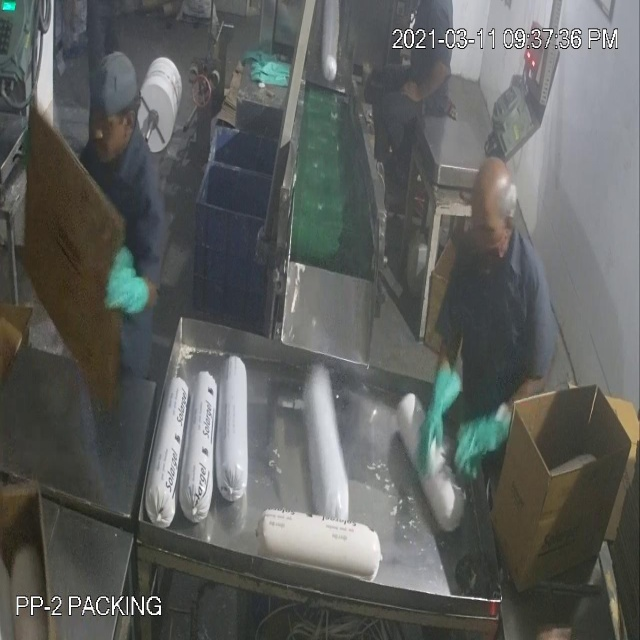Guantes: (98, 238, 152, 336)
Sin_guantes: (406, 358, 460, 468), (449, 406, 510, 484), (397, 64, 453, 115)
